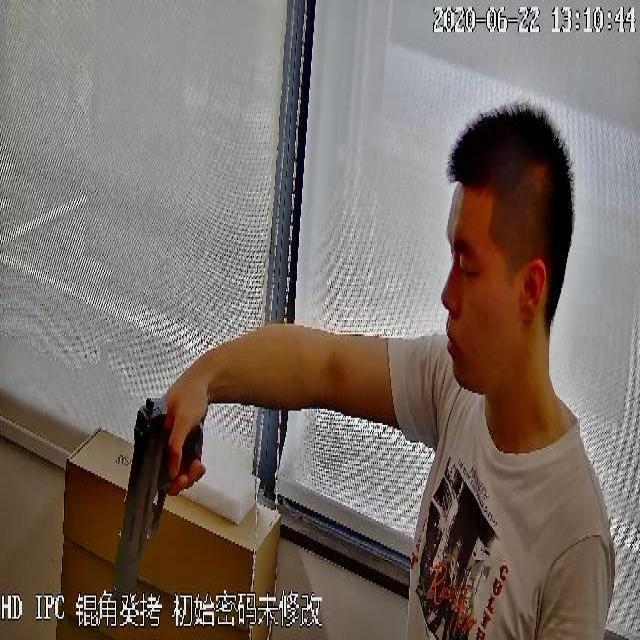pistol: (110, 398, 204, 604)
